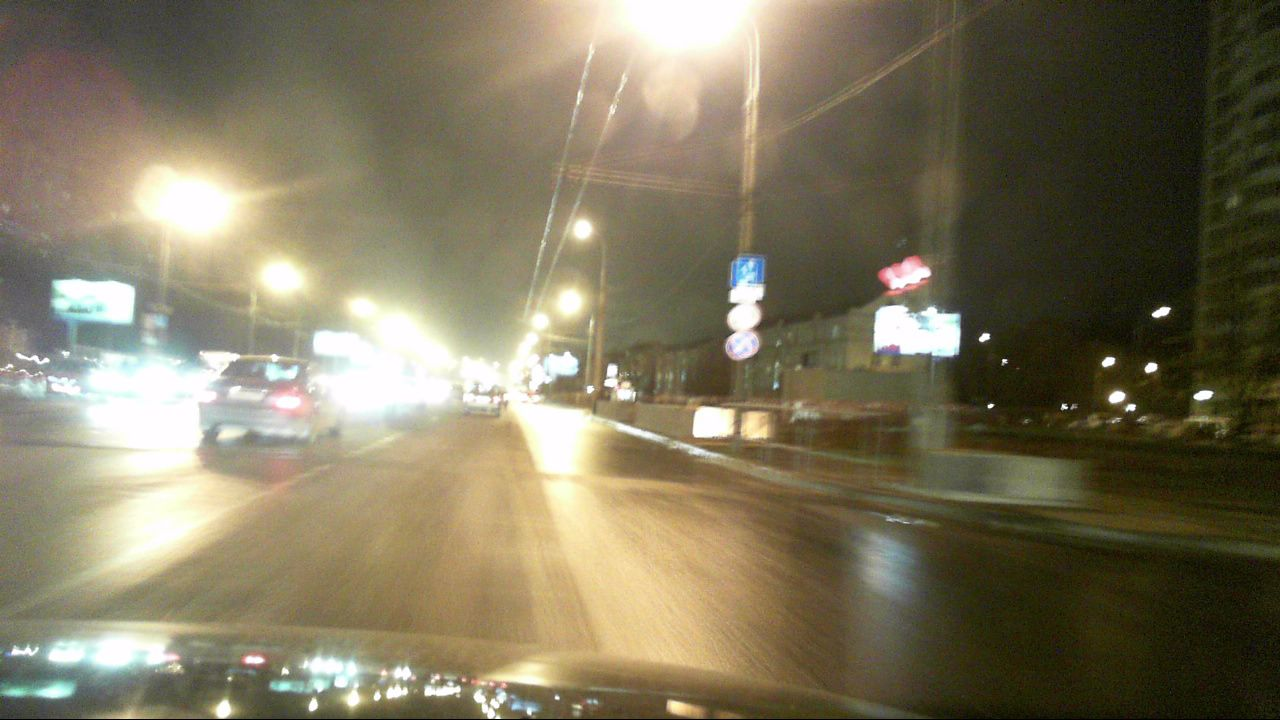No Parking: (730, 331, 759, 360)
